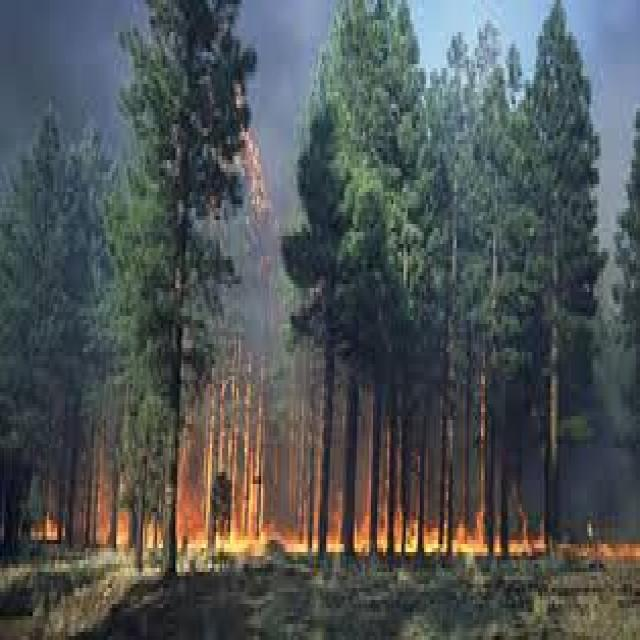Fire: (22, 332, 640, 560), (232, 76, 278, 239)
Smoke: (2, 1, 142, 192), (571, 2, 640, 269), (227, 0, 331, 132)
